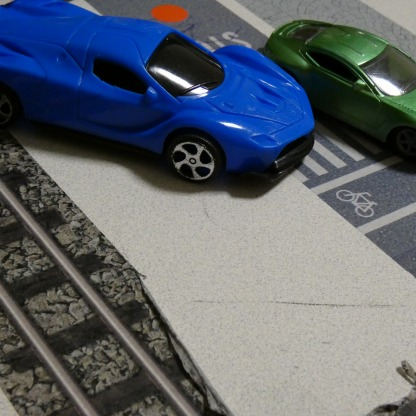car: (0, 0, 317, 195), (265, 17, 415, 167)
